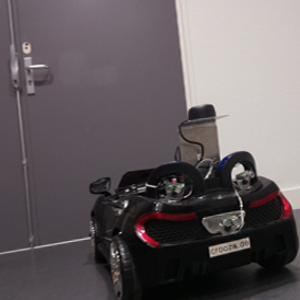big: (86, 151, 299, 300)
